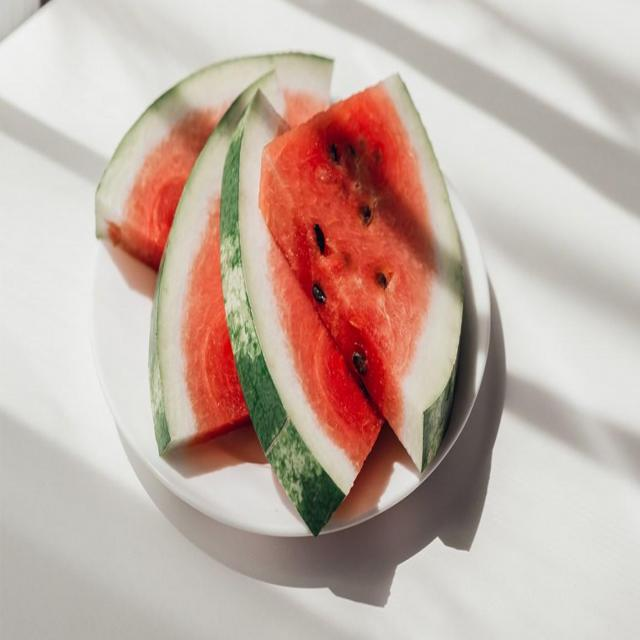watermelon: (257, 66, 472, 474), (220, 76, 388, 524), (156, 60, 321, 457), (88, 41, 342, 282)
